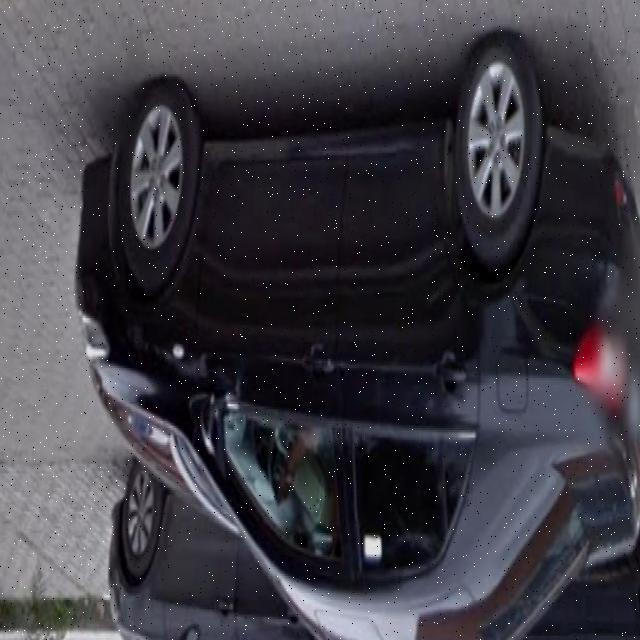car: (70, 9, 640, 640)
